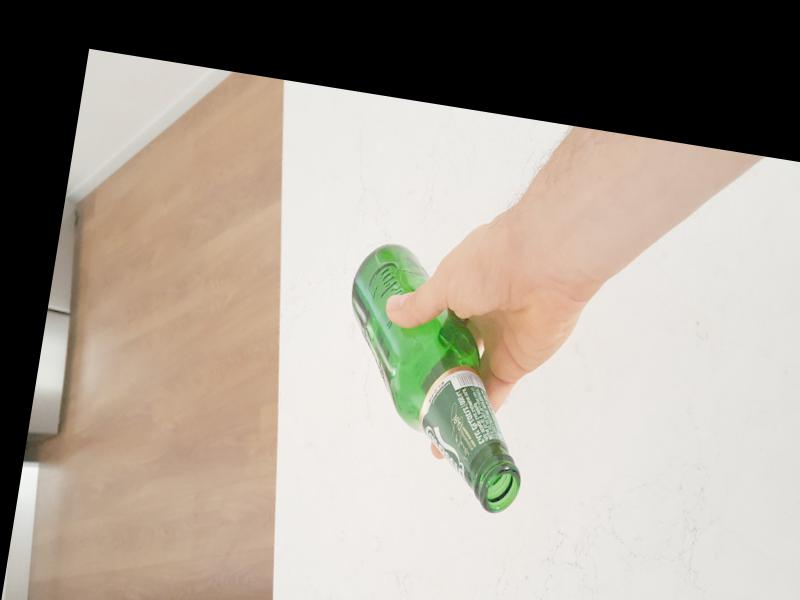Beer: (321, 241, 557, 519)
